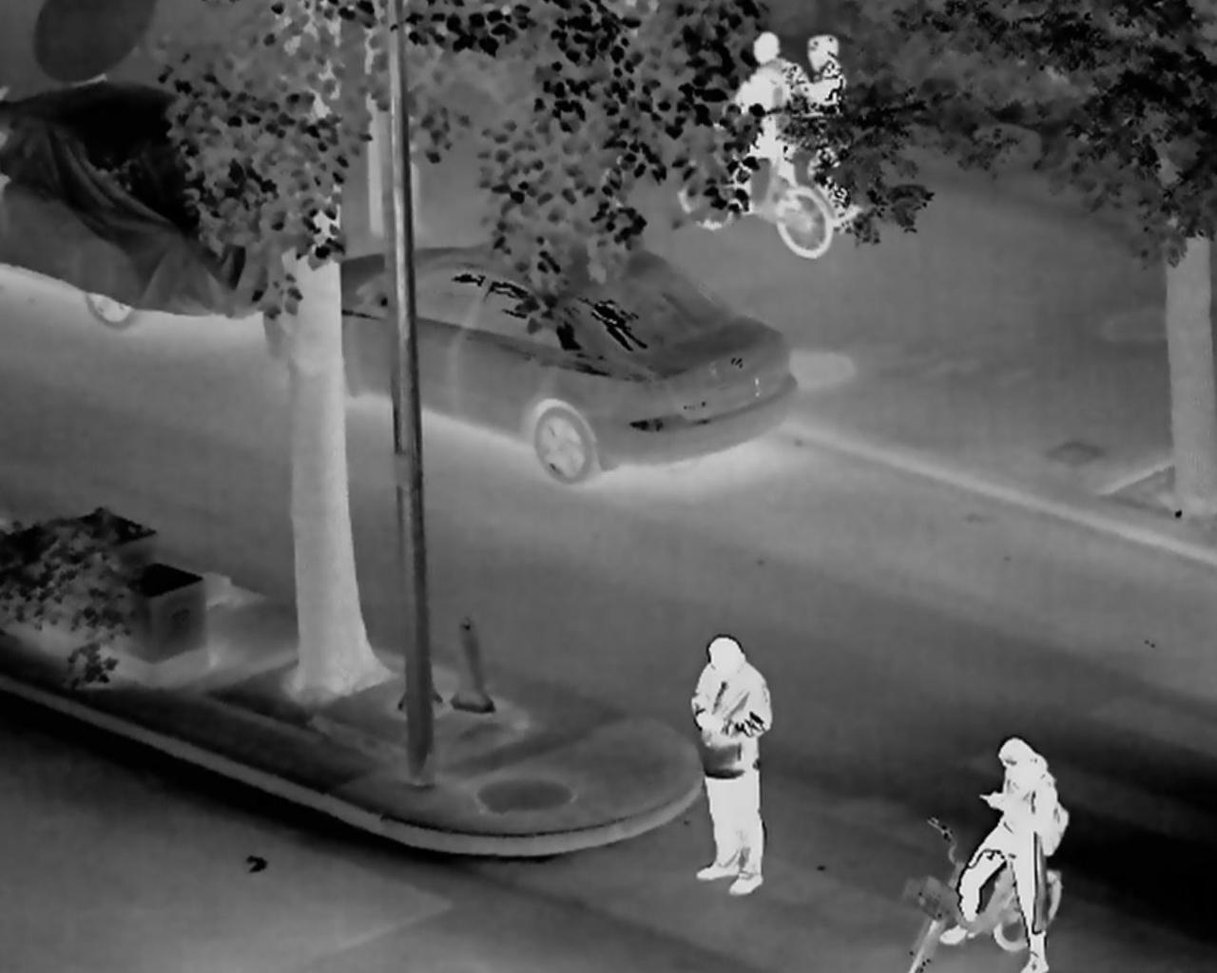person: (941, 739, 1059, 973), (690, 636, 772, 895), (715, 31, 807, 210), (803, 31, 880, 235)
